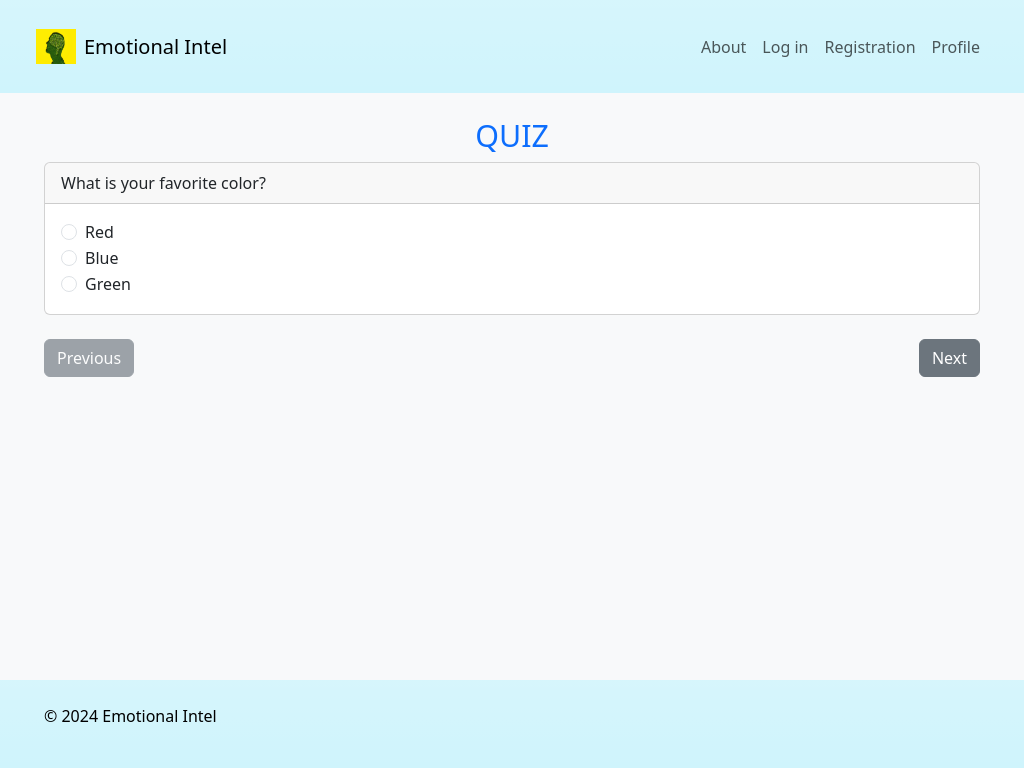
Test: QuestionComponent › should navigate to the next question
Click the button "Next" at (950, 358), box x1=919 y1=339 x2=980 y2=377
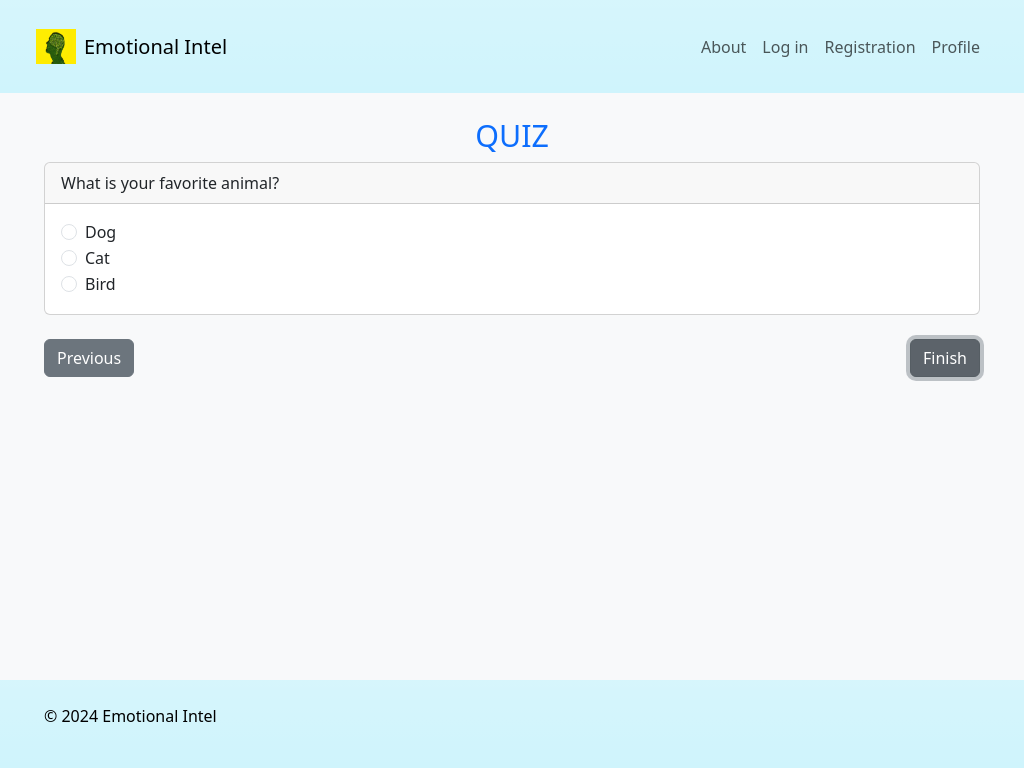
Expected: the text with class "card-header" reads "What is your favorite animal?", x1=45 y1=163 x2=979 y2=204
